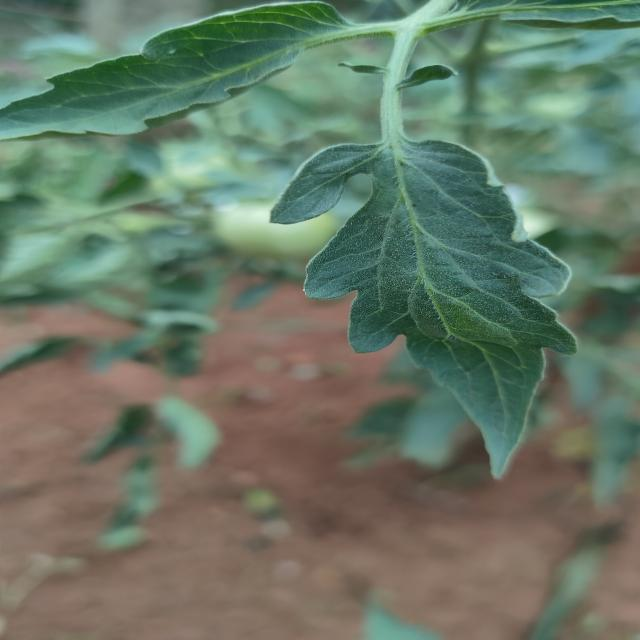tomato_healthy: (275, 142, 579, 478), (3, 3, 369, 138)
